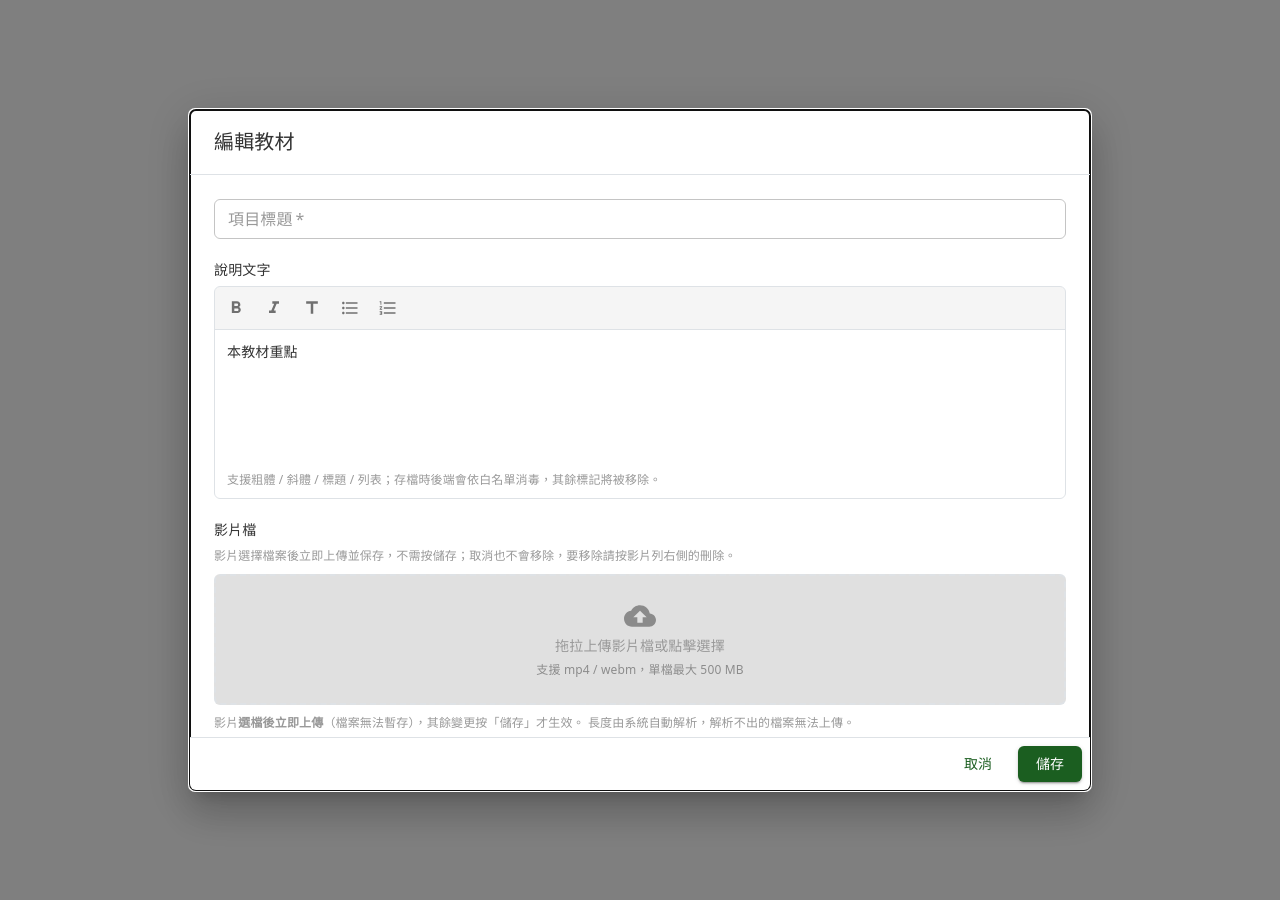
Test: 教材編輯視窗 › 名稱留空按儲存時標記欄位而非籠統報錯
This screenshot has width=1280, height=900.
使用者要知道「要補哪一格」，不是「有東西不對」
Click the button "儲存" at (1050,764), box [1018,746,1082,782]
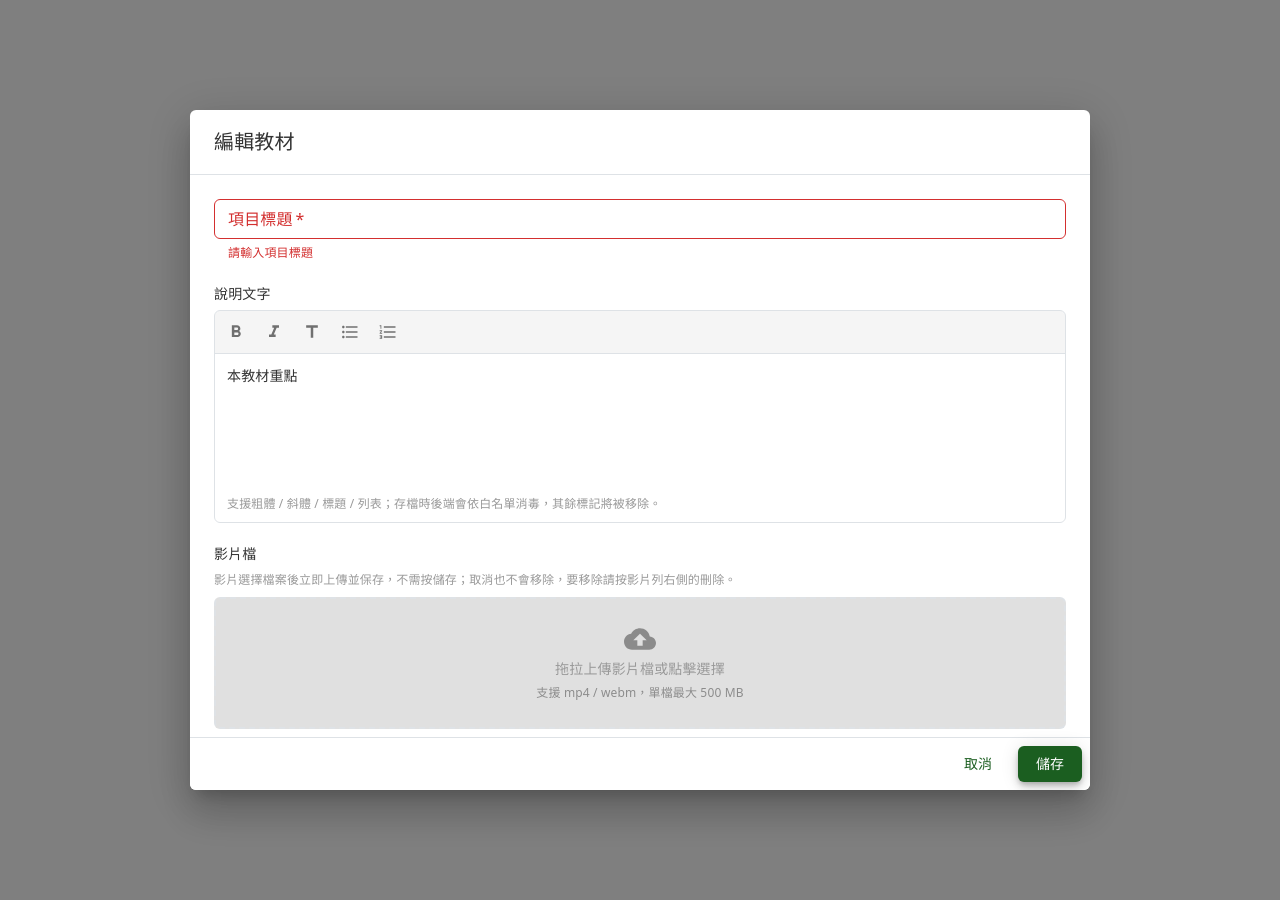
Expected: the text "請輸入項目標題" is shown, [228,244,313,261]
